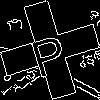P: (25, 25, 70, 79)
